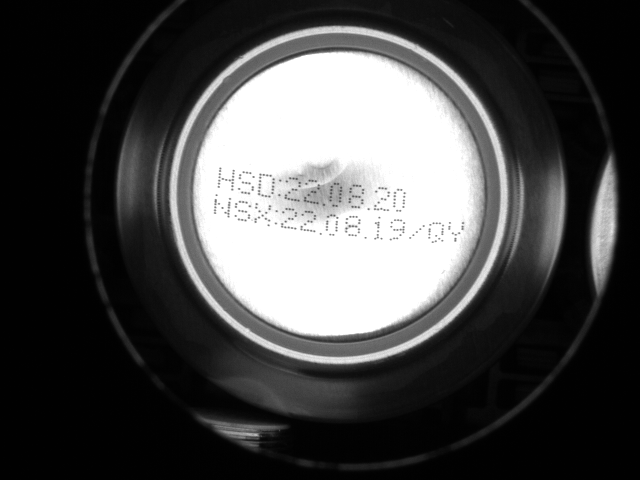/: (407, 221, 428, 243)
0: (393, 189, 415, 213), (327, 180, 343, 211), (323, 213, 343, 236)
1: (368, 216, 386, 241)
2: (369, 185, 393, 215), (283, 174, 306, 203), (278, 205, 298, 231), (304, 176, 322, 204), (300, 211, 321, 234)
8: (348, 182, 365, 210), (344, 215, 362, 237)
9: (389, 215, 405, 242)
D: (257, 174, 279, 200)
H: (212, 167, 236, 192)
N: (211, 199, 231, 221)
Q: (429, 221, 446, 244)
S: (238, 171, 254, 195), (234, 201, 251, 223)
X: (253, 204, 271, 227)
Y: (447, 220, 465, 245)
